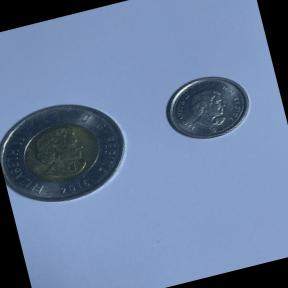coin: (0, 86, 143, 217), (154, 62, 263, 153)
